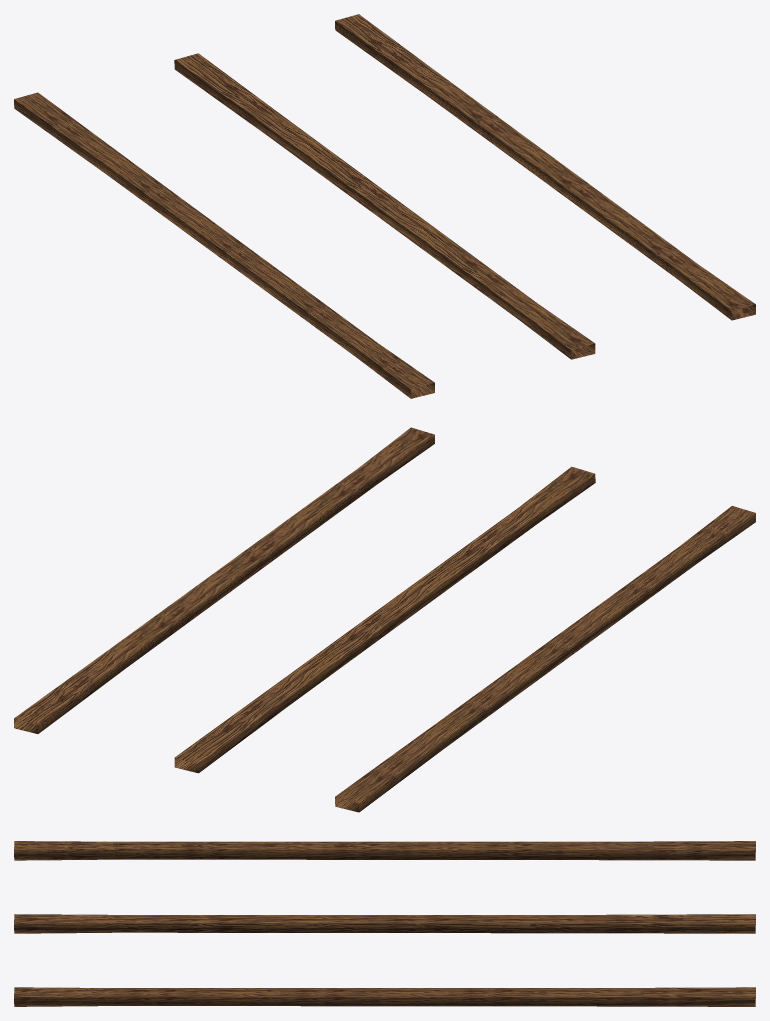
The model's file is LAKETOWN_WAREHOUSE3_PS_WH3_HORZBEAMS939838.fbx.
The picture shows the model from 3 angles, top to bottom: view 1: azimuth 30°, elevation 25°; view 2: azimuth 150°, elevation 25°; view 3: azimuth 270°, elevation 25°; orthographic projection. The views are drawn at different scales.
Parts seen in each view (by area): view 1: LAKETOWN_WAREHOUSE3_PS_WH3_HORZBEAMS939838; view 2: LAKETOWN_WAREHOUSE3_PS_WH3_HORZBEAMS939838; view 3: LAKETOWN_WAREHOUSE3_PS_WH3_HORZBEAMS939838.
Boxes of the visible parts, x1,y1,x2,y2 form: LAKETOWN_WAREHOUSE3_PS_WH3_HORZBEAMS939838: (14, 14, 755, 398); LAKETOWN_WAREHOUSE3_PS_WH3_HORZBEAMS939838: (14, 427, 755, 812); LAKETOWN_WAREHOUSE3_PS_WH3_HORZBEAMS939838: (14, 841, 755, 1006).
Size of the model in its own units: 82682 by 2393 by 164845.
1 material, 1 textured.
